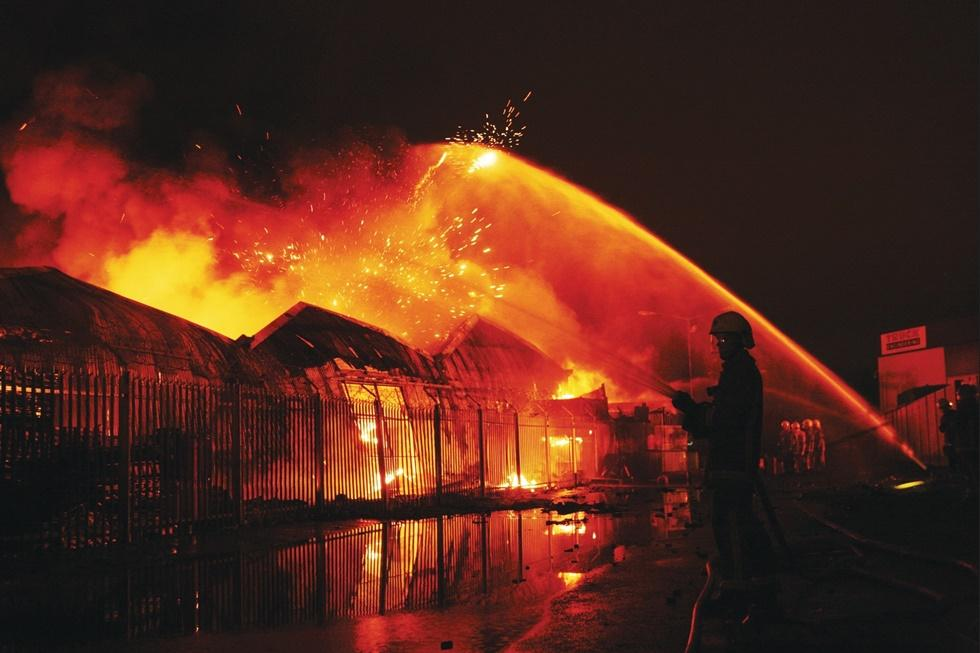Fire: (117, 204, 665, 549)
